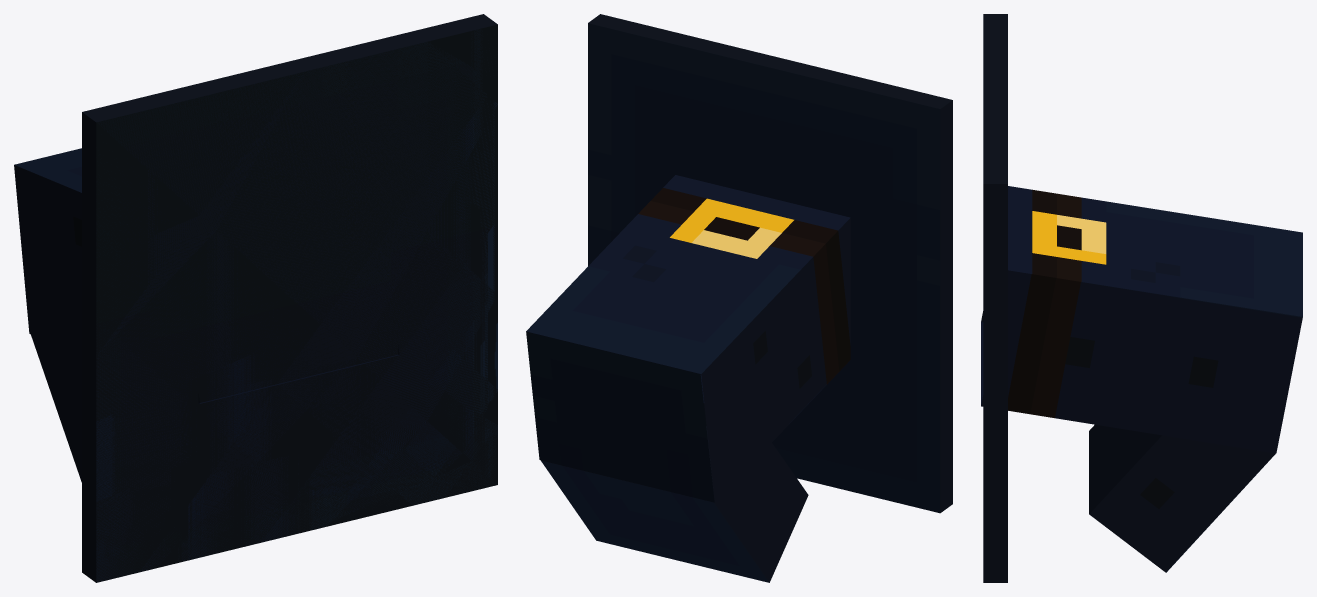
The model's file is MageHat_EvocationRobe.glb.
3 views of the same model, side by side, from view 1: azimuth 30°, elevation 25°; view 2: azimuth 150°, elevation 25°; view 3: azimuth 270°, elevation 25° (orthographic). The views are drawn at different scales.
Visible parts, largest first — view 1: MageHat_EvocationRobe.001; view 2: MageHat_EvocationRobe.001; view 3: MageHat_EvocationRobe.001.
Boxes of the visible parts, x1,y1,x2,y2 form: MageHat_EvocationRobe.001: (14,14,497,582); MageHat_EvocationRobe.001: (526,14,952,582); MageHat_EvocationRobe.001: (981,14,1302,582).
Bounding box in the file's own units: 101 × 119 × 80.57.
Materials: 1 (1 with a texture image).
